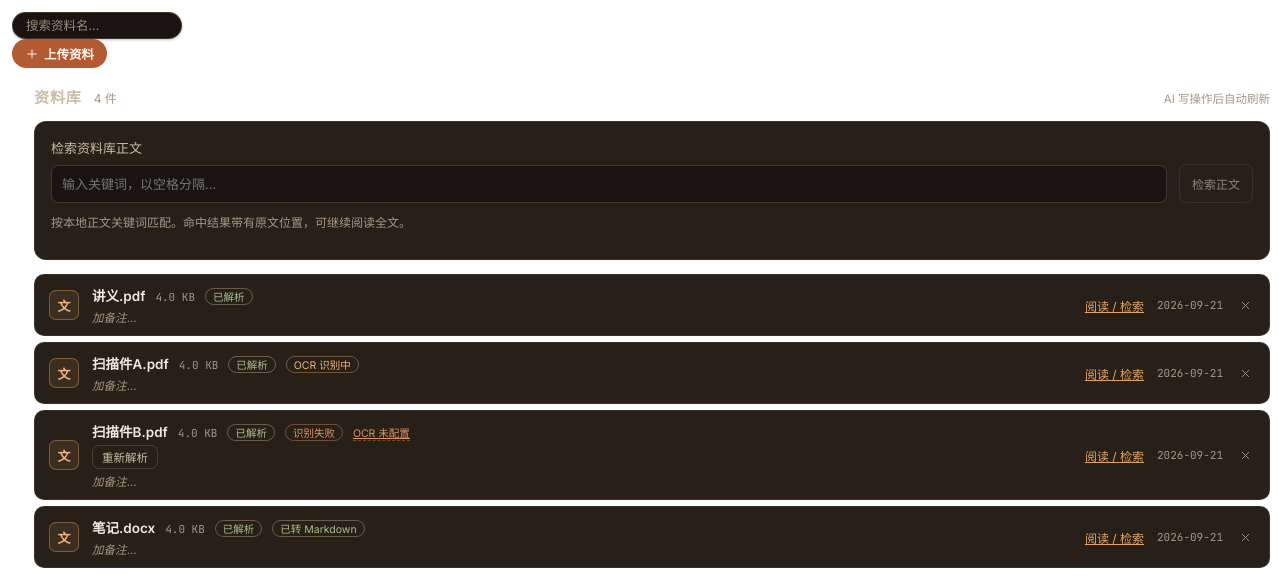
Test: LibraryView（jsdom）：md_status 角标 / 轮询 / 重新解析 › failed 行「重新解析」：POST reparse 后行原位变 pending，随后轮询到 done
Click the button with class "mini" at (125, 457), box [92,445,158,469]
Wait 3000 ms
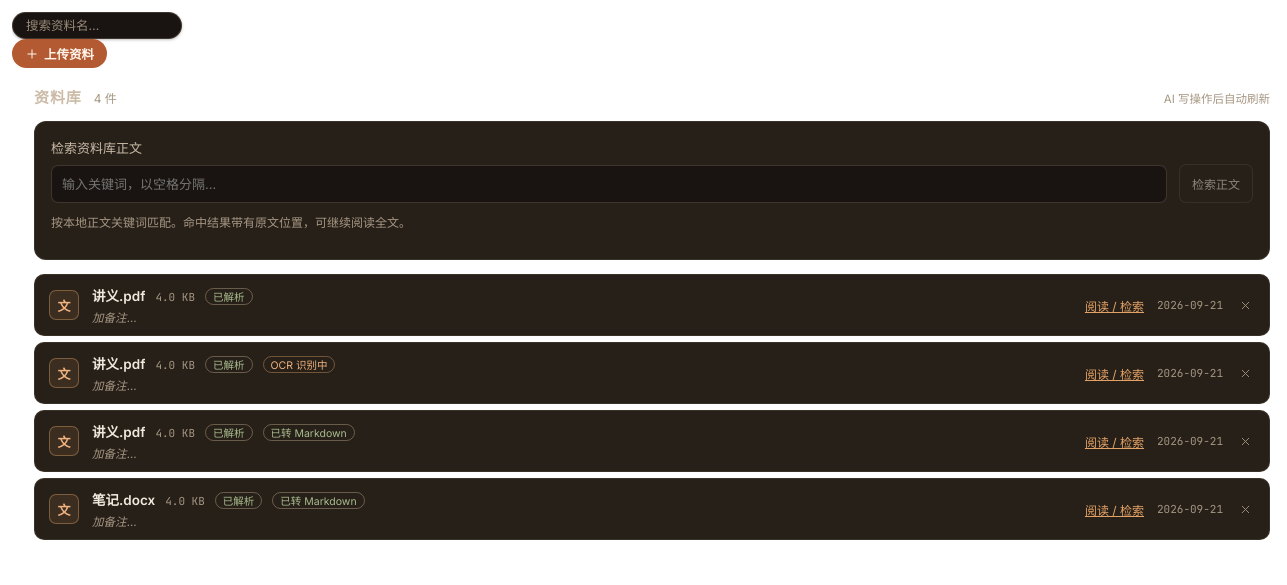
Expected: the text "OCR 识别中" is shown, [262,356,335,373]
Expected: the 1st text with class "row-parse" reads "已转 Markdown", [270,427,347,440]
